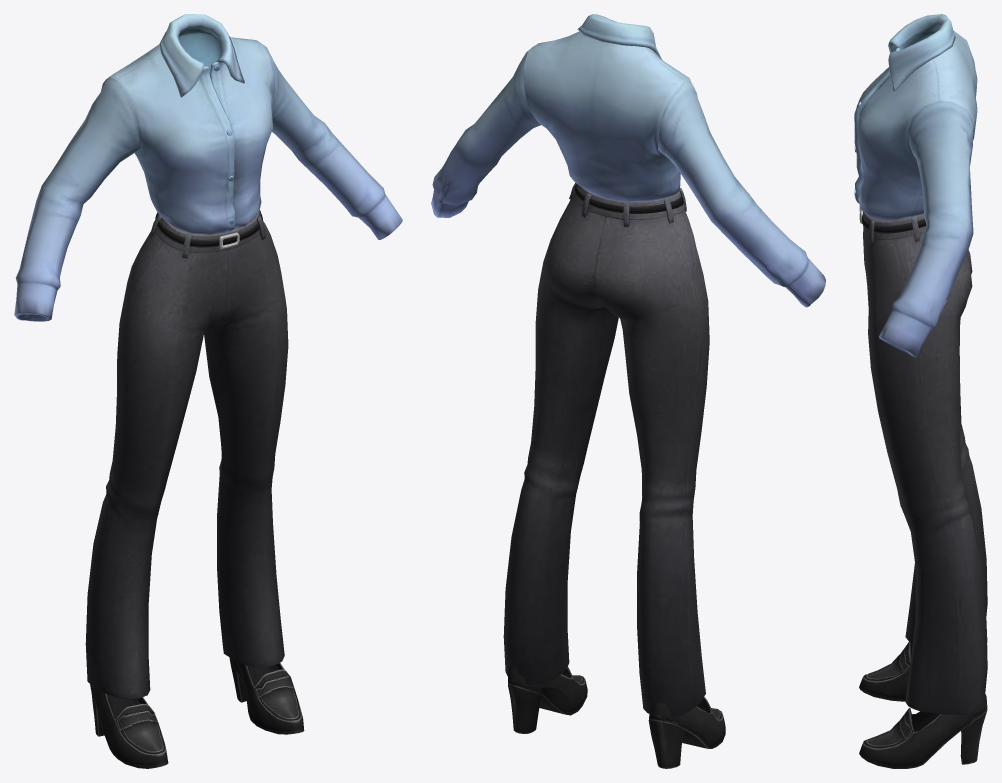
File: femaleoutfit1.glb
3 renders of one model, left to right at view 1: azimuth 30°, elevation 25°; view 2: azimuth 150°, elevation 25°; view 3: azimuth 270°, elevation 25°, orthographic.
Visible parts, largest first — view 1: Wolf3D_Outfit_Bottom, Wolf3D_Outfit_Top, Wolf3D_Outfit_Footwear; view 2: Wolf3D_Outfit_Bottom, Wolf3D_Outfit_Top, Wolf3D_Outfit_Footwear; view 3: Wolf3D_Outfit_Bottom, Wolf3D_Outfit_Top, Wolf3D_Outfit_Footwear.
Part boxes in pixels (x1,y1,x2,y2): Wolf3D_Outfit_Bottom: (85, 210, 288, 700); Wolf3D_Outfit_Top: (14, 14, 402, 321); Wolf3D_Outfit_Footwear: (90, 657, 304, 768); Wolf3D_Outfit_Bottom: (503, 182, 709, 717); Wolf3D_Outfit_Top: (431, 14, 825, 307); Wolf3D_Outfit_Footwear: (508, 666, 725, 768); Wolf3D_Outfit_Bottom: (859, 206, 987, 714); Wolf3D_Outfit_Top: (854, 14, 977, 357); Wolf3D_Outfit_Footwear: (859, 637, 987, 768).
Bounding box in the file's own units: 0.8752 × 1.54 × 0.2641.
Materials: 3 (3 with a texture image).
